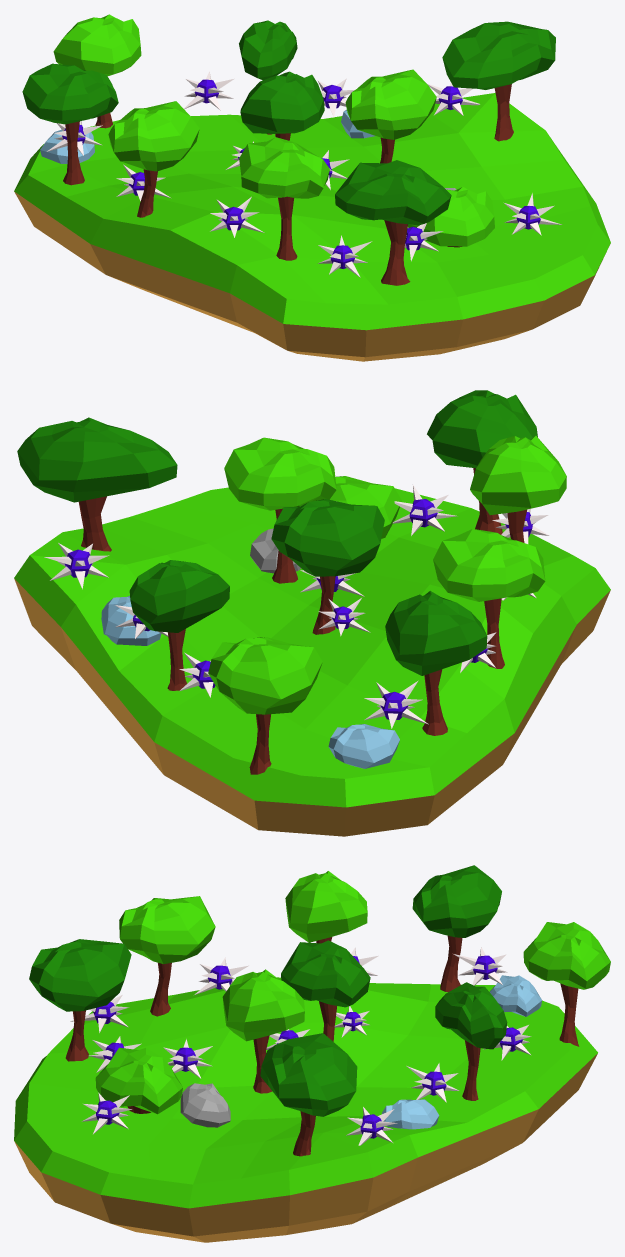
File: SpikeIsland.fbx
The picture shows the model from 3 angles, top to bottom: view 1: azimuth 30°, elevation 25°; view 2: azimuth 150°, elevation 25°; view 3: azimuth 270°, elevation 25°; orthographic projection. The views are drawn at different scales.
Parts seen in each view (by area): view 1: Erde.001, Cylinder.018, Cylinder.015, Cylinder.019, Cylinder.002, Cylinder.017, Cylinder.003, Cylinder.013, Cylinder.016, Cylinder.014, Cylinder.020, Sphere.006 (+9 smaller); view 2: Erde.001, Cylinder.018, Cylinder.016, Cylinder.013, Cylinder.017, Cylinder.019, Cylinder.003, Cylinder.020, Cylinder.002, Cylinder.015, Cylinder.021, Cylinder.014 (+8 smaller); view 3: Erde.001, Cylinder.018, Cylinder.015, Cylinder.002, Cylinder.019, Cylinder.016, Cylinder.003, Cylinder.013, Cylinder.017, Cylinder.014, Cylinder.020, Cylinder.023 (+12 smaller).
Boxes of the visible parts, x1,y1,x2,y2 form: Erde.001: (14, 93, 610, 361); Cylinder.018: (442, 21, 555, 141); Cylinder.015: (335, 160, 451, 285); Cylinder.019: (22, 63, 118, 185); Cylinder.002: (239, 137, 329, 260); Cylinder.017: (108, 101, 199, 217); Cylinder.003: (345, 69, 436, 163); Cylinder.013: (240, 71, 324, 140); Cylinder.016: (53, 14, 141, 128); Cylinder.014: (408, 187, 494, 247); Cylinder.020: (239, 20, 297, 134); Sphere.006: (210, 196, 264, 237); Erde.001: (14, 487, 610, 836); Cylinder.018: (17, 417, 177, 551); Cylinder.016: (208, 637, 322, 774); Cylinder.013: (271, 499, 384, 634); Cylinder.017: (433, 529, 545, 668); Cylinder.019: (385, 591, 487, 735); Cylinder.003: (224, 437, 336, 583); Cylinder.020: (129, 560, 229, 690); Cylinder.002: (470, 435, 566, 542); Cylinder.015: (427, 390, 537, 534); Cylinder.021: (328, 724, 399, 768); Cylinder.014: (294, 476, 401, 538); Erde.001: (14, 977, 597, 1242); Cylinder.018: (260, 1033, 357, 1156); Cylinder.015: (29, 939, 131, 1061); Cylinder.002: (119, 896, 215, 1016); Cylinder.019: (412, 865, 501, 992); Cylinder.016: (523, 922, 610, 1046); Cylinder.003: (222, 969, 304, 1093); Cylinder.013: (281, 940, 370, 1041); Cylinder.017: (285, 871, 367, 943); Cylinder.014: (95, 1047, 182, 1114); Cylinder.020: (435, 982, 507, 1100); Cylinder.023: (180, 1083, 230, 1127).
Size of the model in its own units: 2309 by 1020 by 2588.
